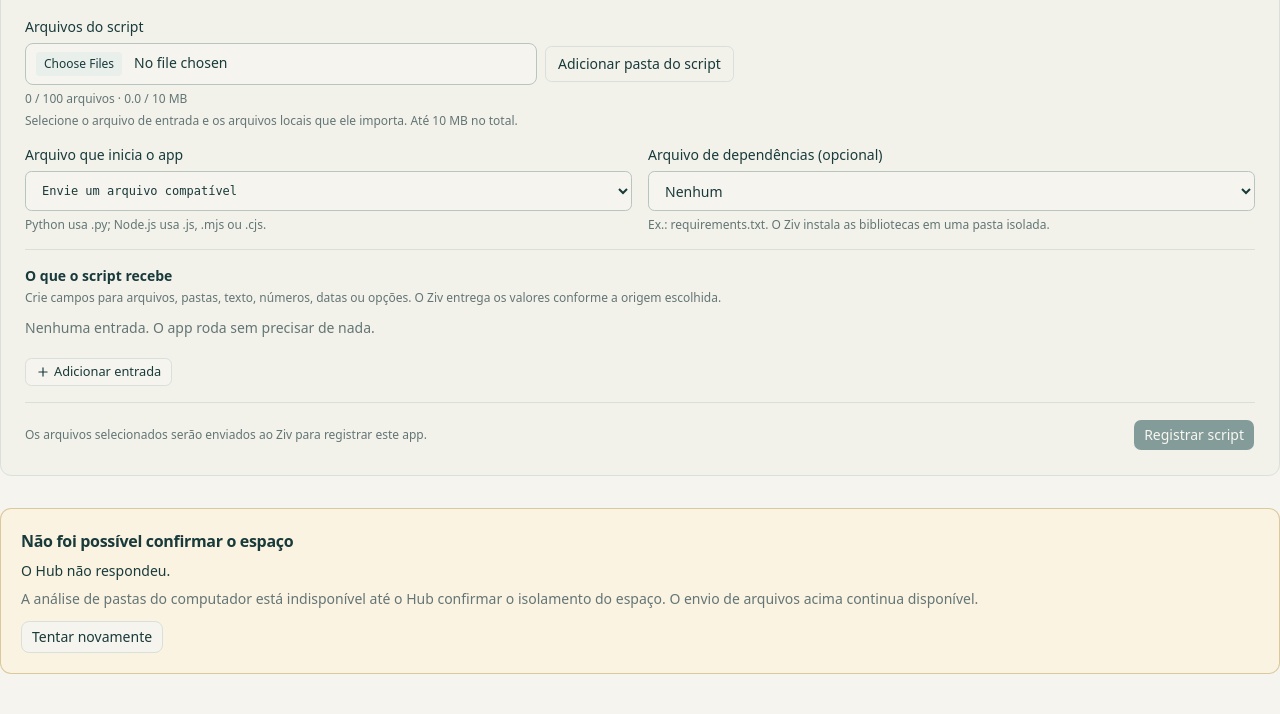
Test: folder scanning stays hidden until workspace access is confirmed and can retry
(page scrolled)
Expected: the text "indisponível até o Hub confirmar o isolamento" is shown, [21,589,978,608]
Expected: the field labelled "Onde estão os apps?" is not shown
Click the button "Tentar novamente". click: [92, 637]
box: [21,621,163,653]
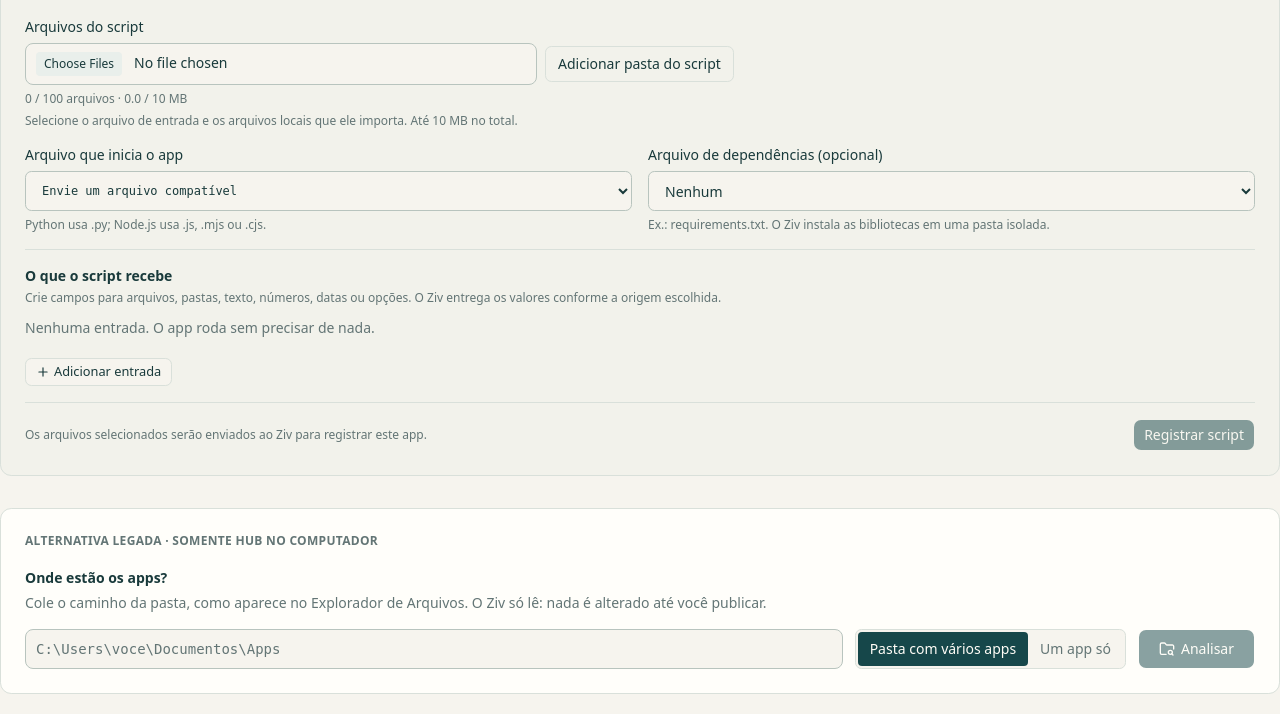
Expected: the field labelled "Onde estão os apps?" is shown, [25,629,843,669]
